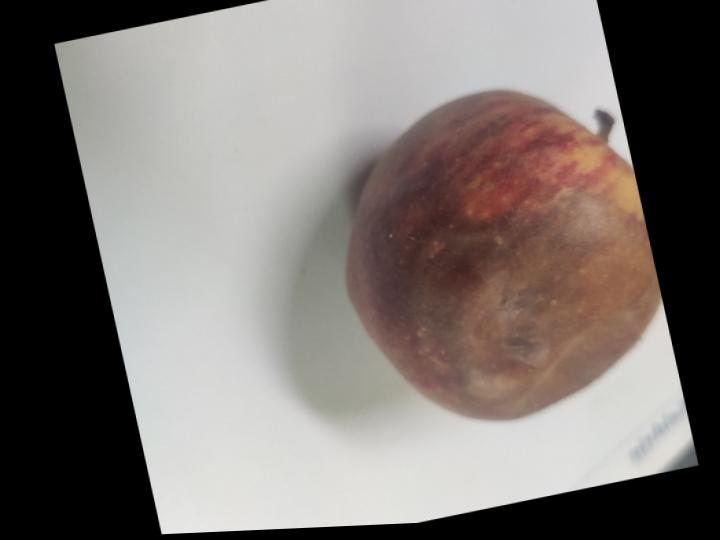apple: (347, 89, 661, 419)
rot_mold_decay: (347, 127, 661, 418)
